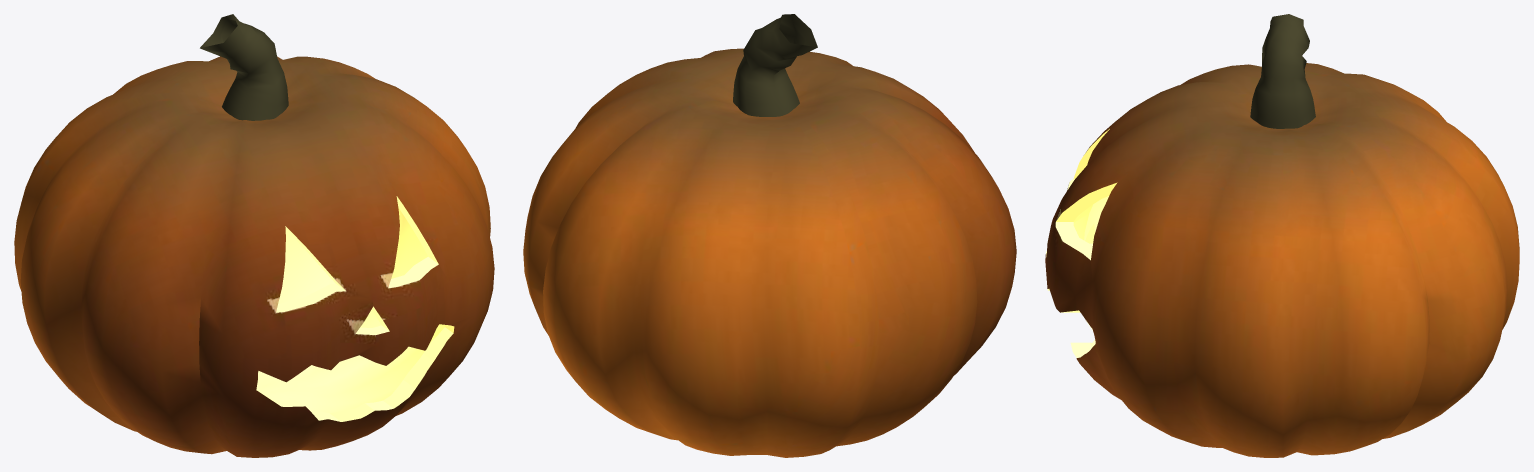
File: jackolantern.glb
3 views of the same model, side by side, from view 1: azimuth 30°, elevation 25°; view 2: azimuth 150°, elevation 25°; view 3: azimuth 270°, elevation 25° (orthographic). The views are drawn at different scales.
Visible parts, largest first — view 1: jackolantern, jackolantern_stem; view 2: jackolantern, jackolantern_stem; view 3: jackolantern, jackolantern_stem.
Boxes of the visible parts, left/top/right/bottom form: jackolantern: left=14, top=56, right=494, bottom=457; jackolantern_stem: left=200, top=14, right=288, bottom=120; jackolantern: left=523, top=48, right=1016, bottom=457; jackolantern_stem: left=733, top=14, right=817, bottom=116; jackolantern: left=1045, top=63, right=1519, bottom=457; jackolantern_stem: left=1250, top=14, right=1315, bottom=128.
Size of the model in its own units: 0.9909 by 0.9161 by 0.9921.
Materials: 3 (1 with a texture image).
